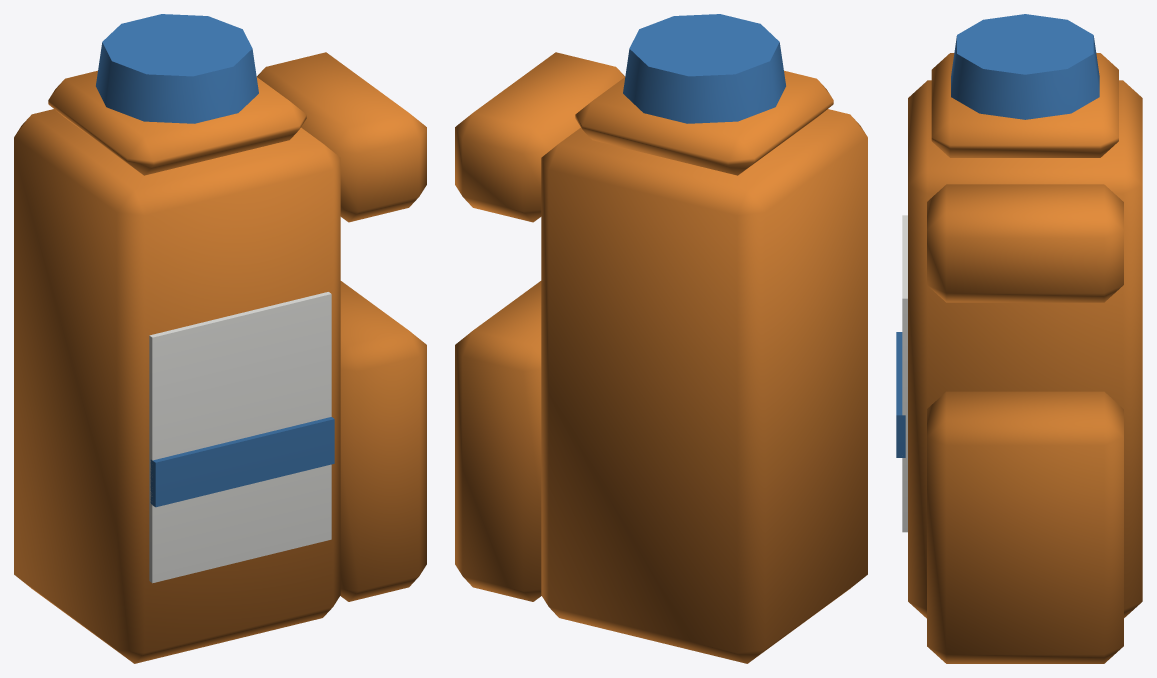
File: Bottle_Laundry_01.glb
3 views of the same model, side by side, from view 1: azimuth 30°, elevation 25°; view 2: azimuth 150°, elevation 25°; view 3: azimuth 270°, elevation 25° (orthographic). The views are drawn at different scales.
Parts seen in each view (by area): view 1: SM_Bottle_Laundry_01; view 2: SM_Bottle_Laundry_01; view 3: SM_Bottle_Laundry_01.
Part boxes in pixels (x1=…): SM_Bottle_Laundry_01: x1=14, y1=14, x2=426, y2=663; SM_Bottle_Laundry_01: x1=455, y1=14, x2=867, y2=663; SM_Bottle_Laundry_01: x1=896, y1=14, x2=1142, y2=663.
Size of the model in its own units: 0.18 by 0.3 by 0.126.
Materials: 1 (1 with a texture image).
